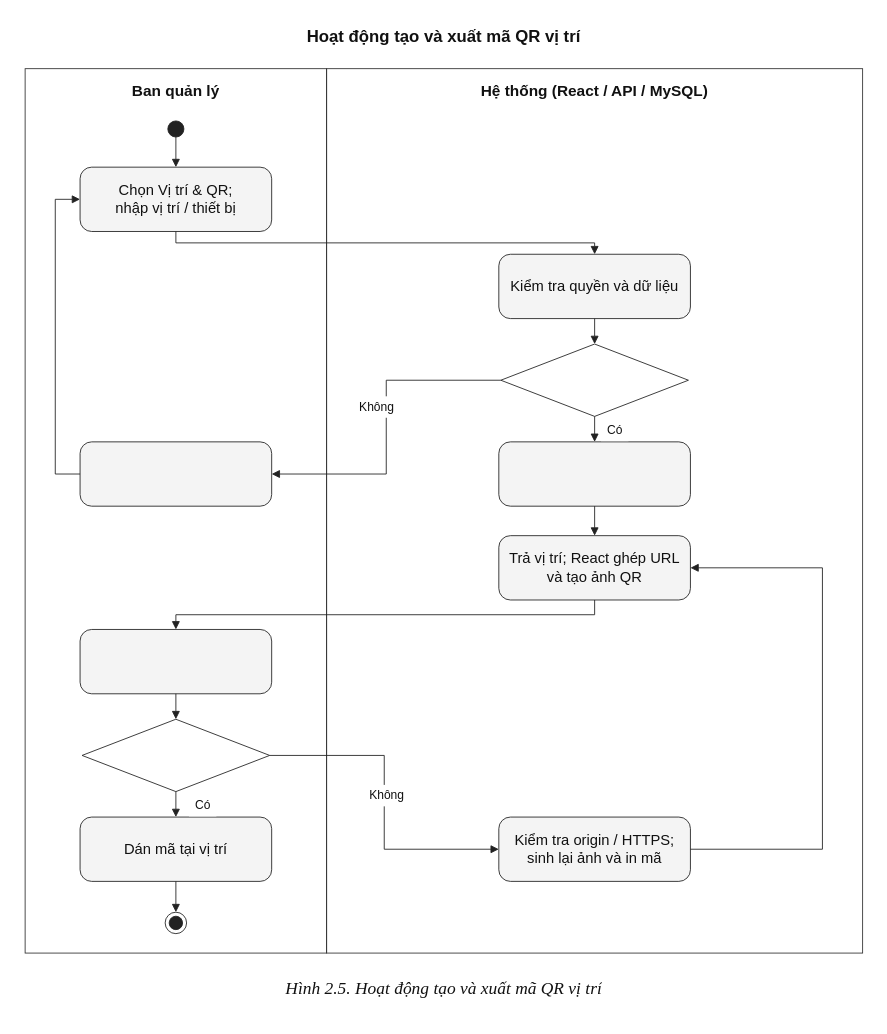
Image size: 887x1034. Some labels were removed from this diagram. The centre of each missing label's shape, as x and y in pixels:
"Hiển thị lỗi; giữ nội dung để sửa" belongs at point (175, 473).
"Quyền và dữ liệu hợp lệ?" belongs at point (594, 380).
"Quét thử đúng vị trí?" belongs at point (175, 755).
"Transaction: lưu vị trí, token và lịch sử" belongs at point (594, 473).
"Xem / tải PNG / in mã" belongs at point (175, 661).
